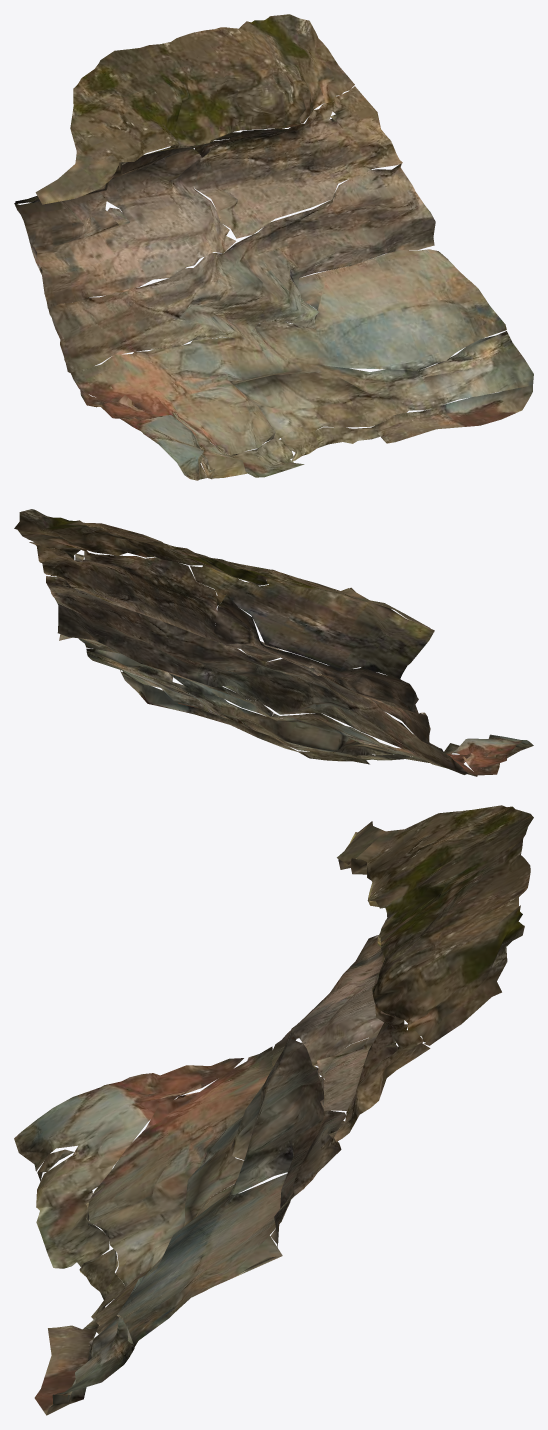
File: rock_face_01_lod1.glb
3 views of the same model, one above another, from view 1: azimuth 30°, elevation 25°; view 2: azimuth 150°, elevation 25°; view 3: azimuth 270°, elevation 25° (orthographic). The views are drawn at different scales.
Parts seen in each view (by area): view 1: rock_face_01; view 2: rock_face_01; view 3: rock_face_01.
Part boxes in pixels (x1=…): rock_face_01: x1=14, y1=14, x2=533, y2=480; rock_face_01: x1=14, y1=509, x2=533, y2=776; rock_face_01: x1=14, y1=805, x2=533, y2=1415.
Bounding box in the file's own units: 4.93 × 3.58 × 3.83.
Materials: 1 (1 with a texture image).
